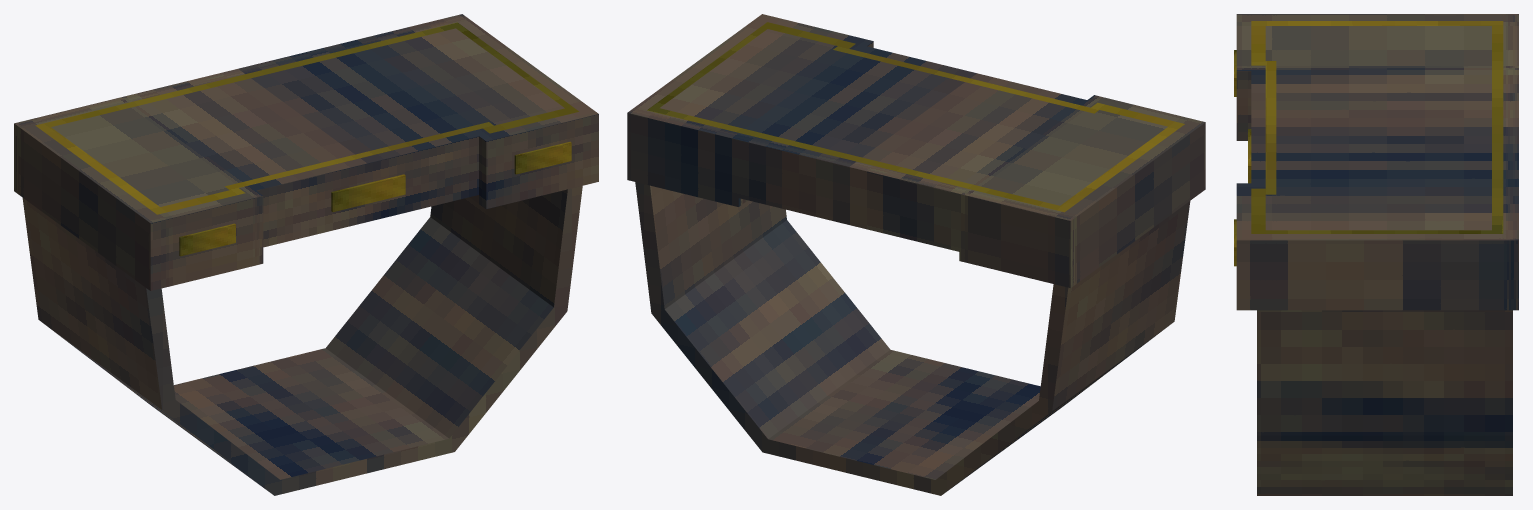
Rendered from Table 1.glb.
The picture shows the model from 3 angles, left to right: view 1: azimuth 30°, elevation 25°; view 2: azimuth 150°, elevation 25°; view 3: azimuth 270°, elevation 25°; orthographic projection. The views are drawn at different scales.
Visible parts, largest first — view 1: Table 1; view 2: Table 1; view 3: Table 1.
Part boxes in pixels (x1,y1,x2,y2): Table 1: (14,14,598,495); Table 1: (627,14,1205,495); Table 1: (1234,14,1518,495).
Size of the model in its own units: 1.24 by 0.8289 by 0.6618.
1 material, 1 textured.
